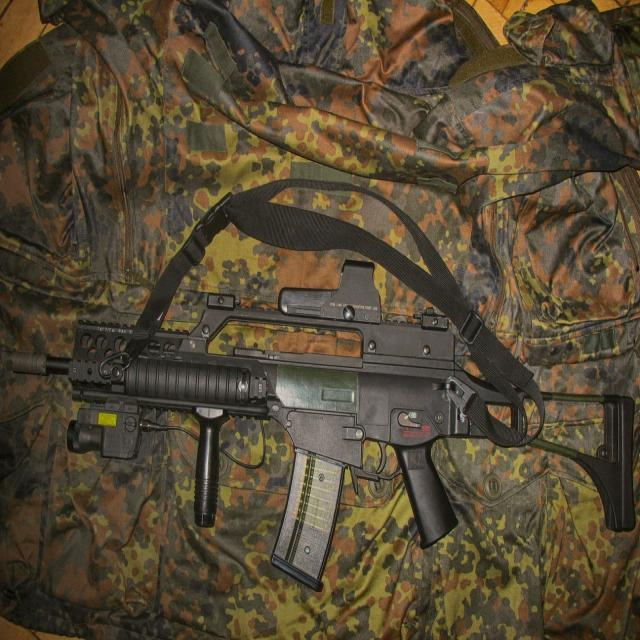firearm: (9, 260, 636, 593)
